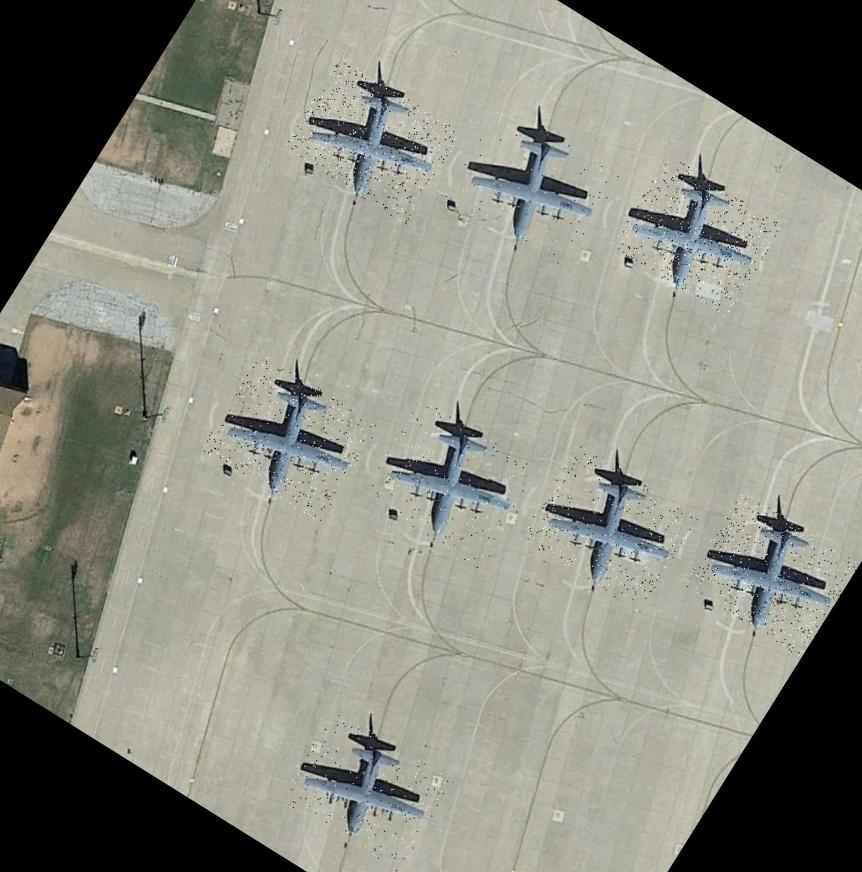A2: (359, 397, 542, 570), (200, 352, 380, 524), (443, 102, 623, 272), (518, 444, 698, 614), (282, 57, 462, 225), (682, 490, 859, 658), (275, 706, 454, 872), (610, 155, 782, 318)
